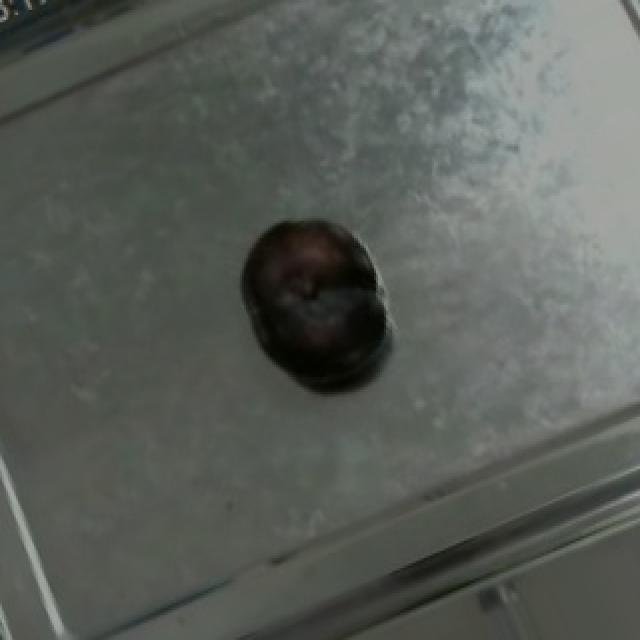Fruit: (222, 193, 396, 400)
